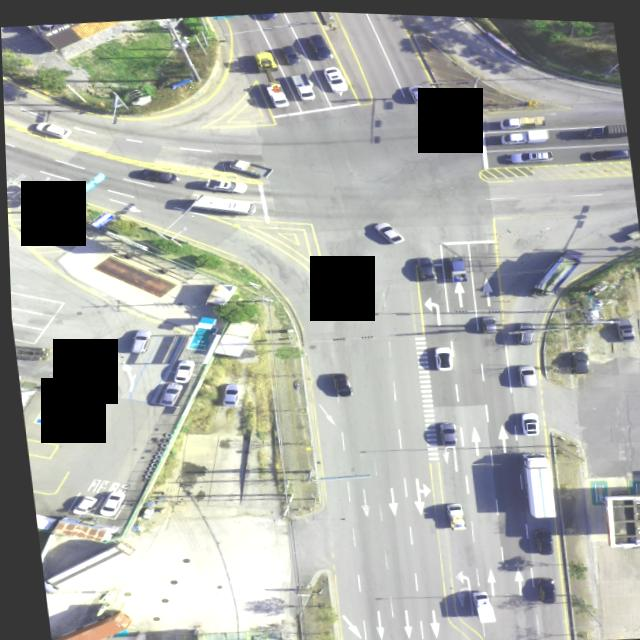car: (501, 144, 552, 162), (49, 372, 82, 398), (199, 176, 244, 195), (370, 217, 403, 242), (32, 120, 71, 140), (135, 165, 177, 183), (91, 489, 119, 515), (584, 141, 629, 157), (121, 329, 148, 354), (321, 64, 346, 91), (306, 31, 330, 58), (529, 573, 551, 602), (168, 359, 193, 384), (152, 381, 179, 404), (63, 493, 92, 514), (216, 380, 239, 405), (327, 369, 348, 395), (566, 346, 587, 371), (527, 525, 548, 550), (571, 351, 592, 375), (429, 343, 449, 368), (514, 409, 534, 433), (434, 418, 453, 443), (279, 42, 300, 64), (513, 362, 533, 385), (413, 256, 433, 278), (612, 315, 631, 338), (513, 322, 532, 343), (405, 81, 425, 99), (477, 313, 492, 331), (255, 10, 274, 19)
medium_truck: (37, 543, 134, 596), (524, 242, 588, 294), (514, 450, 551, 518), (10, 341, 46, 366), (466, 587, 490, 621)
small_bus: (185, 187, 253, 217)
small_truck: (199, 281, 236, 307), (227, 155, 268, 178), (499, 125, 548, 144), (580, 118, 626, 137), (499, 109, 546, 126), (287, 71, 314, 100), (262, 80, 287, 109), (440, 499, 460, 527), (445, 253, 465, 278), (621, 223, 639, 238)
